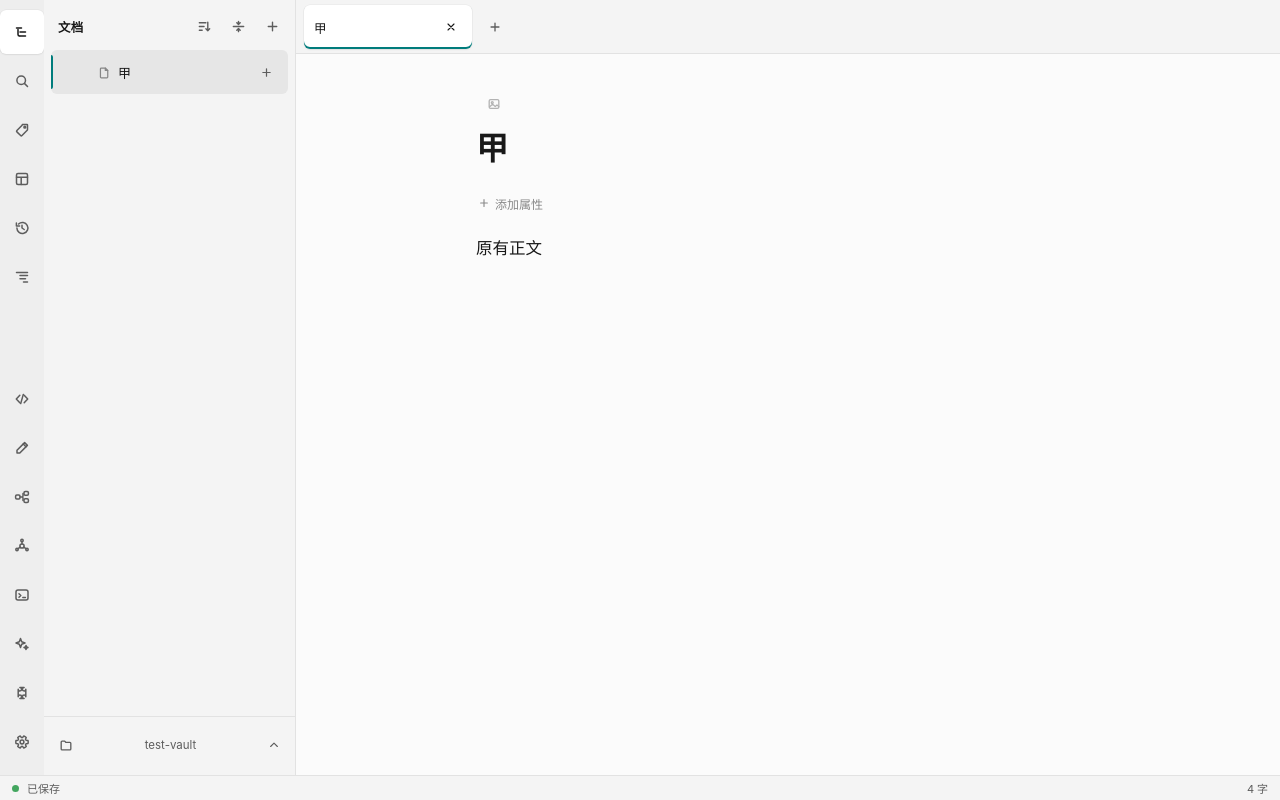
it: 用模板新建 › 建完进改名态 —— 和普通新建同一条路
Click the button named "命令面板": (22, 693) [0,671,44,715]
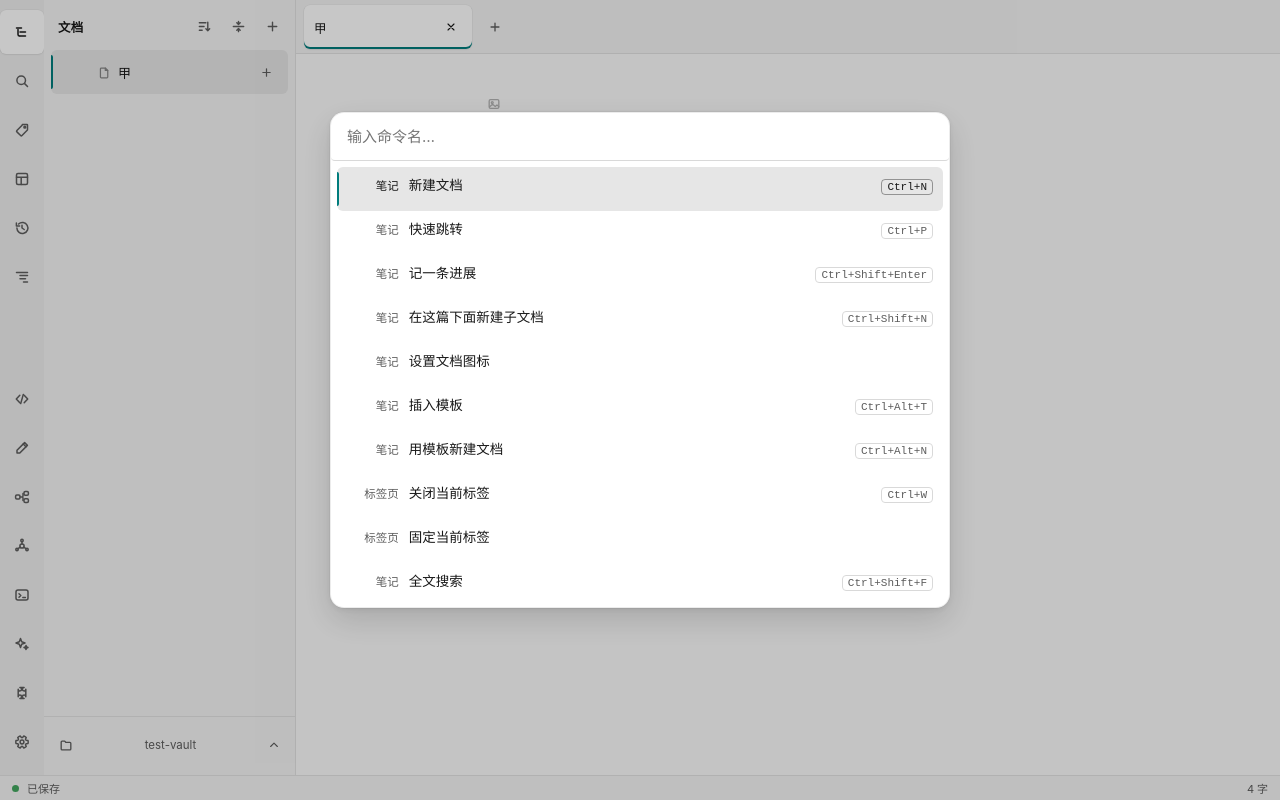
expect the button "笔记 用模板新建文档 Ctrl+Alt+N" is shown: met
Click the button "笔记 用模板新建文档 Ctrl+Alt+N": (456, 449) [337,431,943,475]
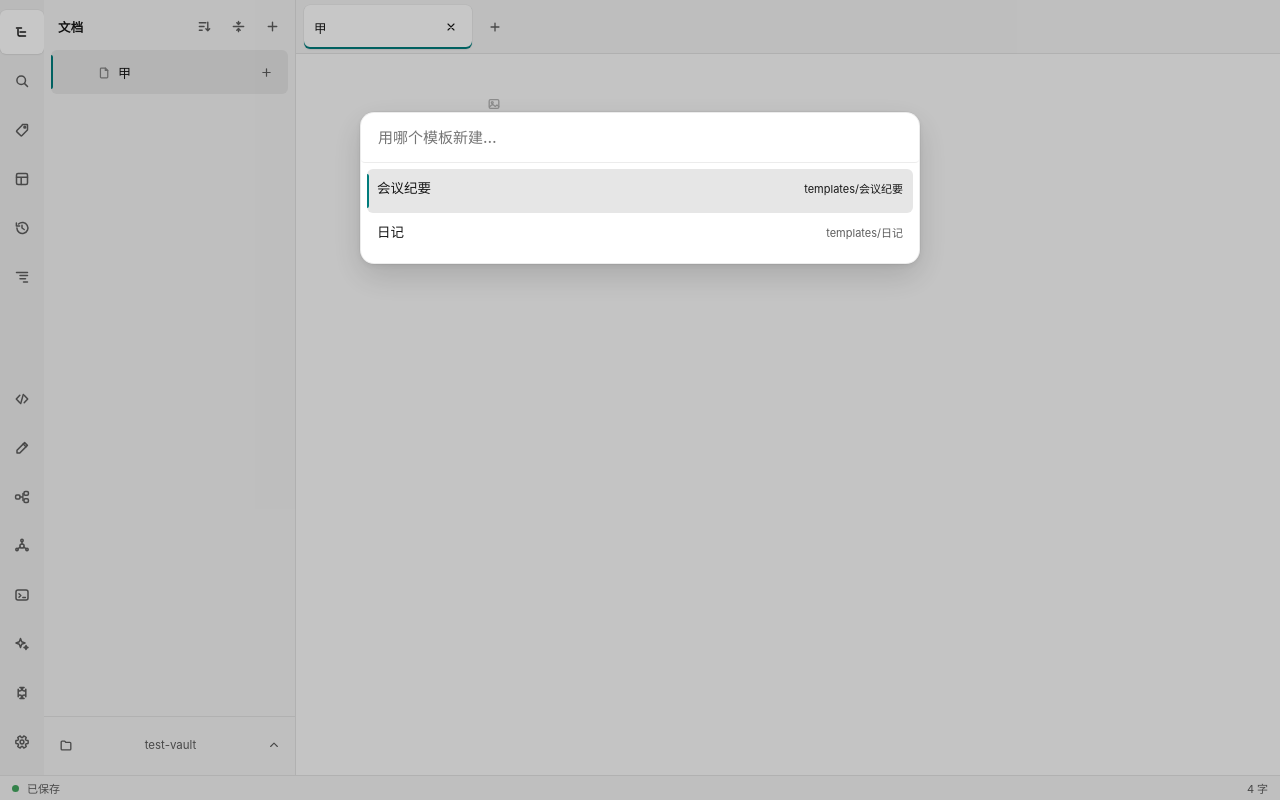
expect the text "日记" is shown: met
Press the mouse on the text "日记": (390, 231) [377,221,404,241]
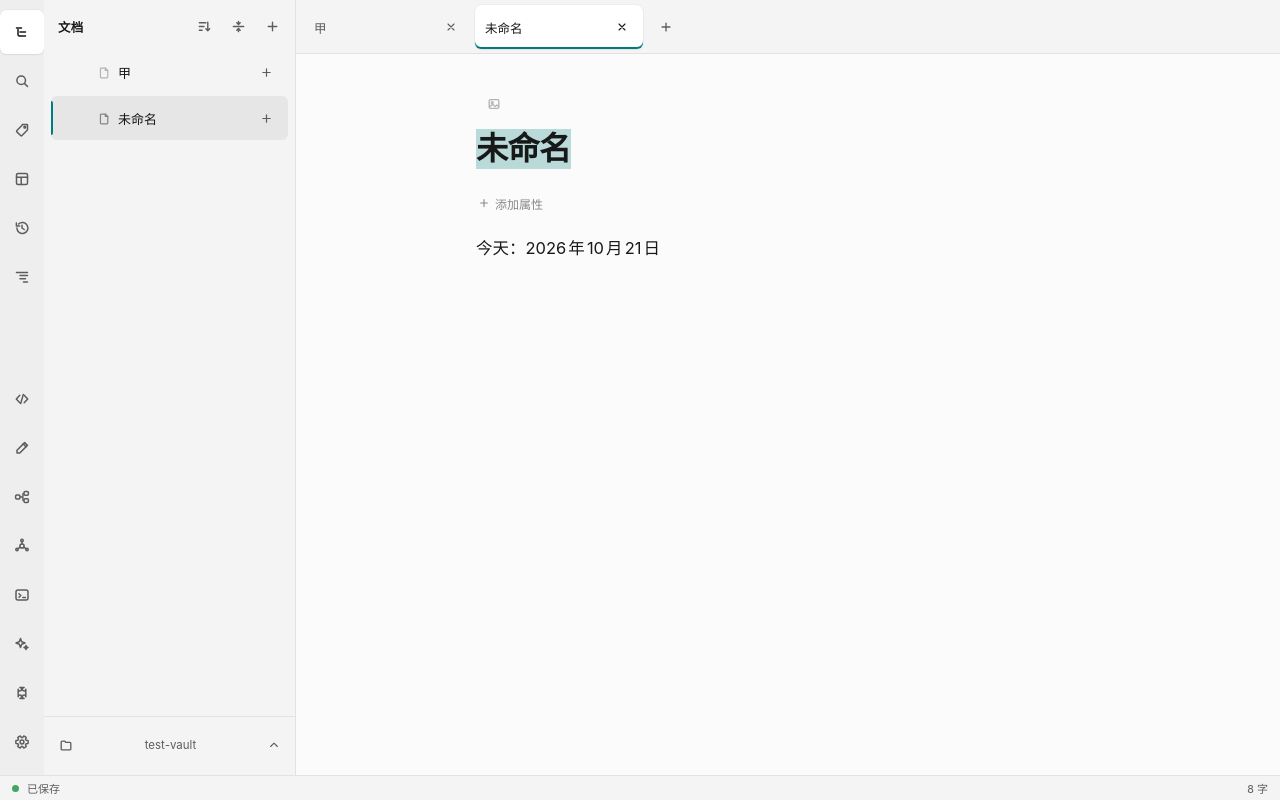
expect the field with class "doc-title-input" is shown: met, box [472,127,1100,171]
